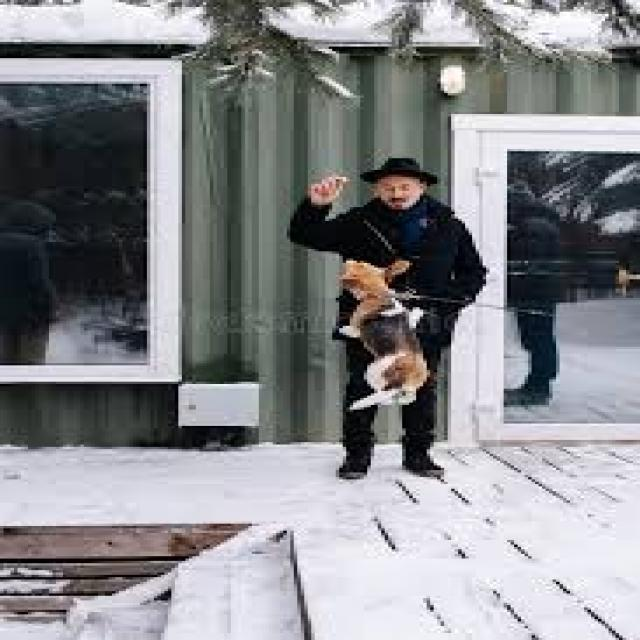Dog: (331, 256, 436, 423)
